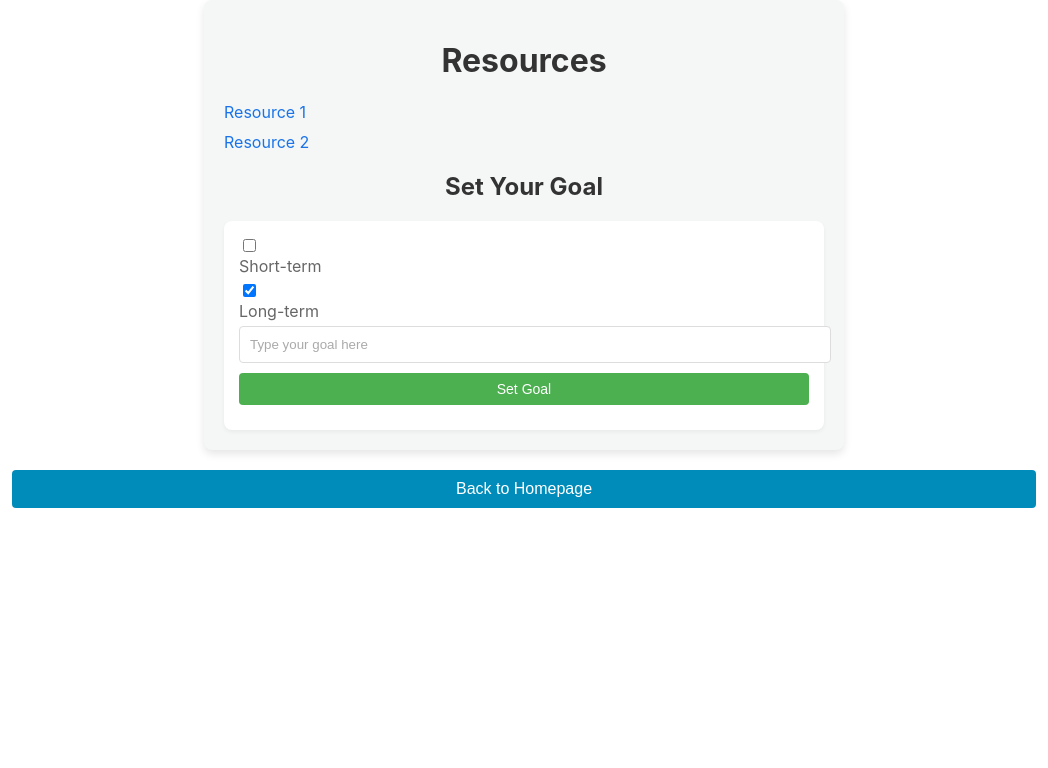
Test case: Dashboard Component › submits the form and displays the current goal
Type "New Goal" into the field with placeholder "Type your goal here" at (535, 344), box [239, 326, 831, 363]
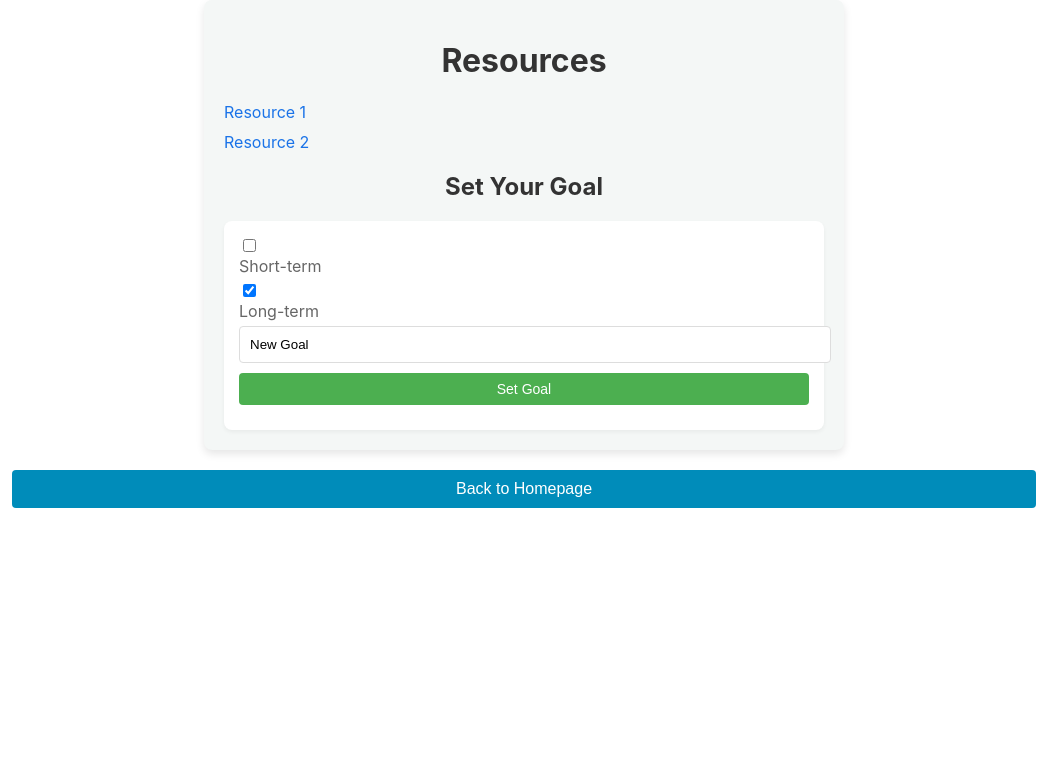
Click the button "Set Goal" at (524, 389), box [239, 373, 809, 405]
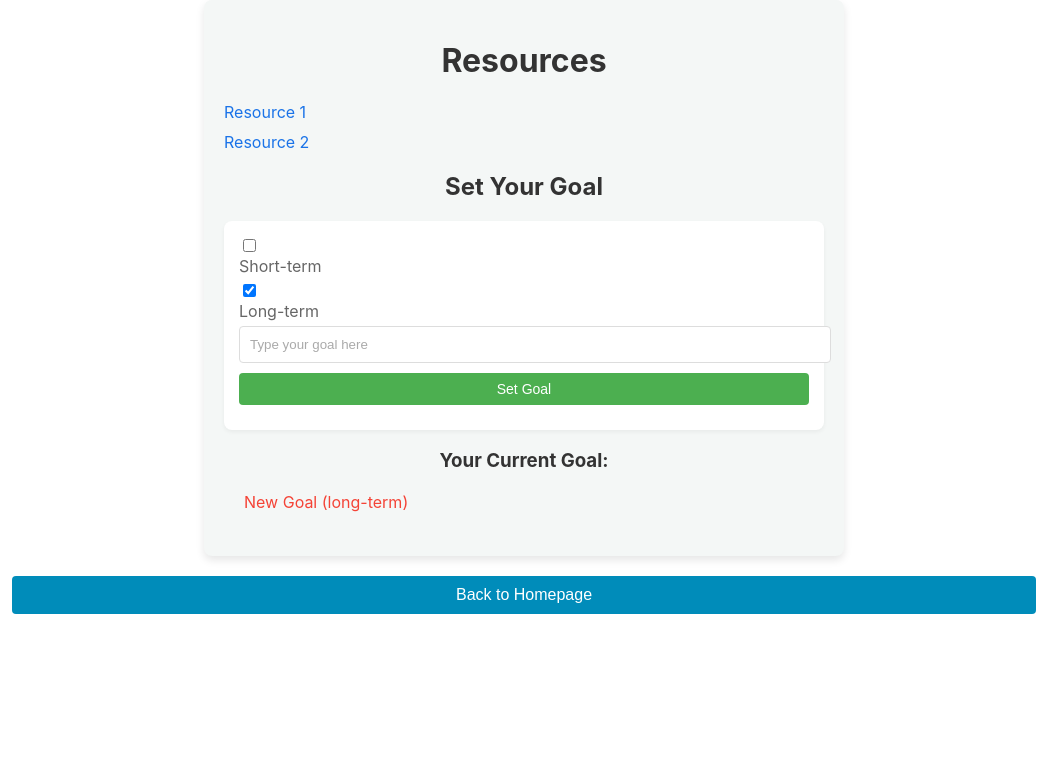
Check: the heading "Your Current Goal:" is shown, box [439, 448, 608, 472]
Check: the text "New Goal (long-term)" is shown, box [244, 492, 408, 512]
